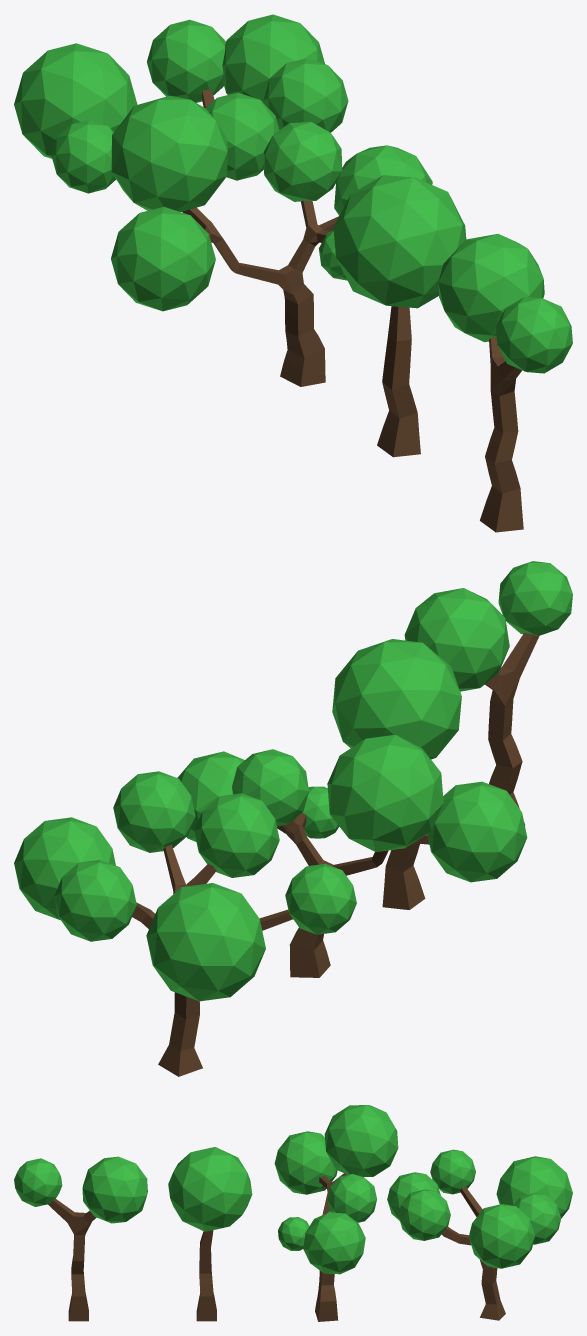
Rendered from fák.fbx.
3 views of the same model, one above another, from view 1: azimuth 30°, elevation 25°; view 2: azimuth 150°, elevation 25°; view 3: azimuth 270°, elevation 25° (orthographic). The views are drawn at different scales.
Parts seen in each view (by area): view 1: Lomb.001, Lomb.008, Lomb.006, Lomb.013; view 2: Lomb.008, Lomb.001, Lomb.013, Lomb.006; view 3: Lomb.001, Lomb.008, Lomb.013, Lomb.006.
Part boxes in pixels (bbox=[...]): Lomb.001: bbox=[111, 95, 432, 386]; Lomb.008: bbox=[14, 14, 348, 193]; Lomb.006: bbox=[333, 175, 466, 457]; Lomb.013: bbox=[438, 233, 572, 532]; Lomb.008: bbox=[14, 771, 356, 1076]; Lomb.001: bbox=[177, 734, 527, 977]; Lomb.013: bbox=[404, 561, 572, 825]; Lomb.006: bbox=[332, 639, 461, 909]; Lomb.001: bbox=[274, 1105, 398, 1321]; Lomb.008: bbox=[387, 1149, 572, 1320]; Lomb.013: bbox=[14, 1156, 147, 1321]; Lomb.006: bbox=[168, 1147, 252, 1321].
Size of the model in its own units: 16.91 by 13.02 by 37.09.
